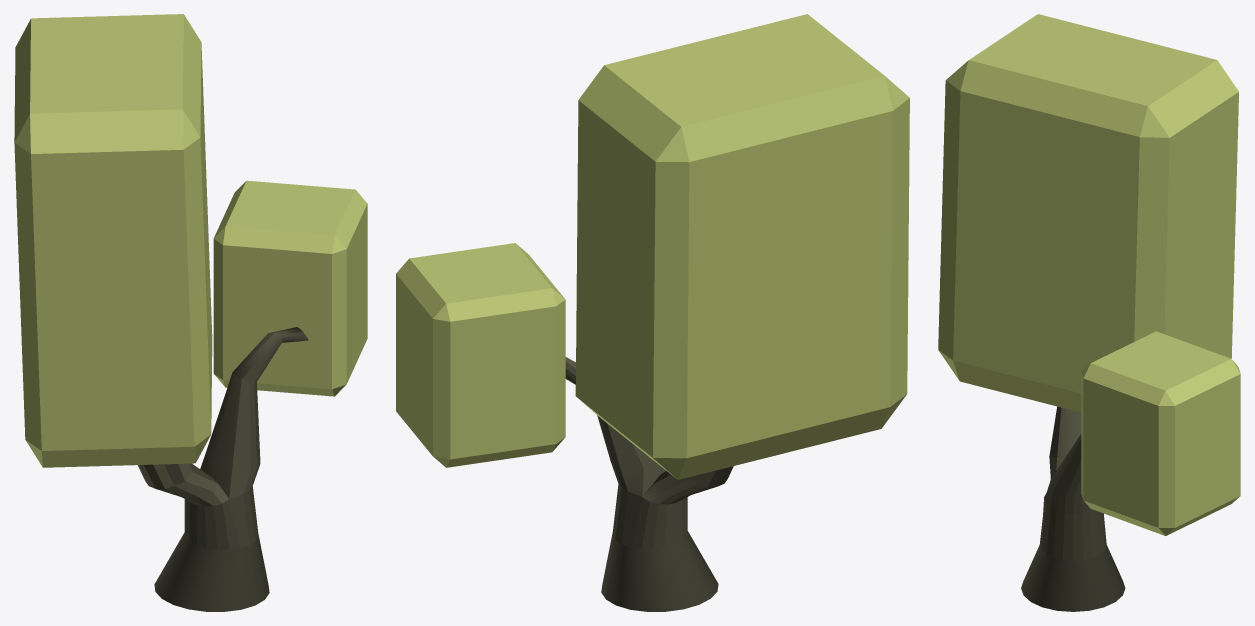
Rendered from Tree3.fbx.
3 views of the same model, side by side, from view 1: azimuth 30°, elevation 25°; view 2: azimuth 150°, elevation 25°; view 3: azimuth 270°, elevation 25° (orthographic). The views are drawn at different scales.
Visible parts, largest first — view 1: pCube42, pCube41, pasted__pCylinder4; view 2: pCube42, pCube41, pasted__pCylinder4; view 3: pCube42, pCube41, pasted__pCylinder4.
Boxes of the visible parts, bbox=[...] form: pCube42: bbox=[14, 14, 212, 467]; pCube41: bbox=[213, 180, 367, 396]; pasted__pCylinder4: bbox=[137, 327, 308, 611]; pCube42: bbox=[575, 14, 909, 479]; pCube41: bbox=[396, 243, 565, 467]; pasted__pCylinder4: bbox=[565, 357, 733, 611]; pCube42: bbox=[938, 14, 1238, 412]; pCube41: bbox=[1081, 331, 1240, 535]; pasted__pCylinder4: bbox=[1021, 406, 1125, 611].
Bounding box in the file's own units: 2.84 × 3.55 × 1.98.
